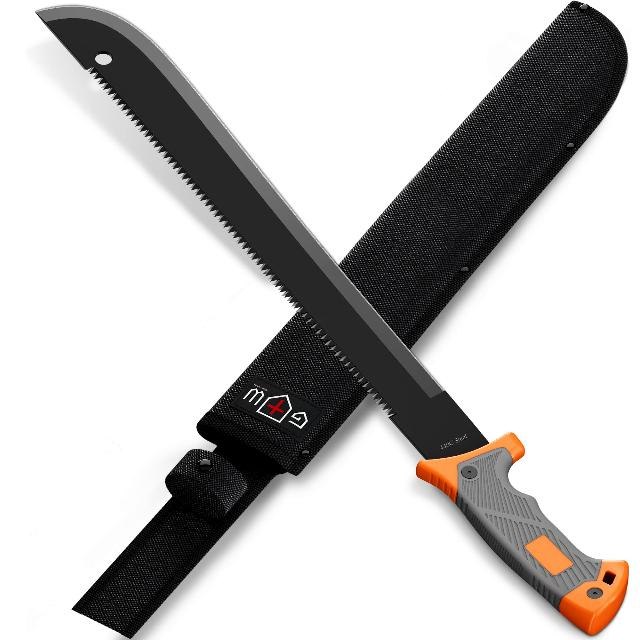long knife: (29, 11, 636, 624)
